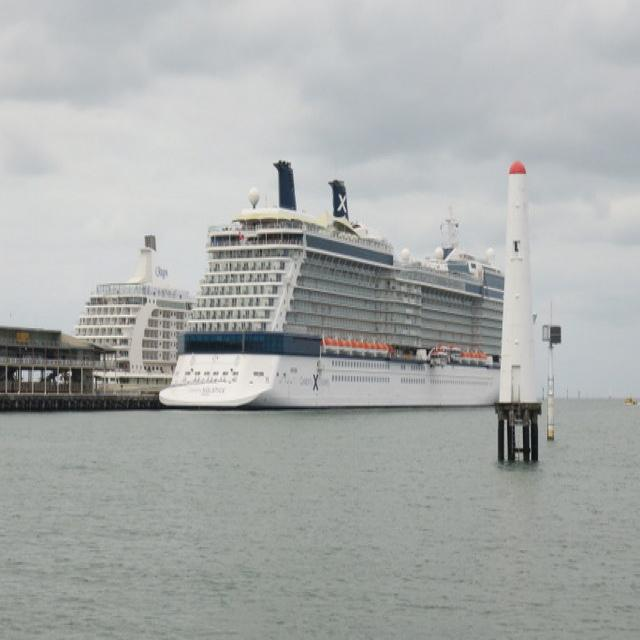passenger ship: (158, 187, 505, 411), (68, 231, 192, 389)
